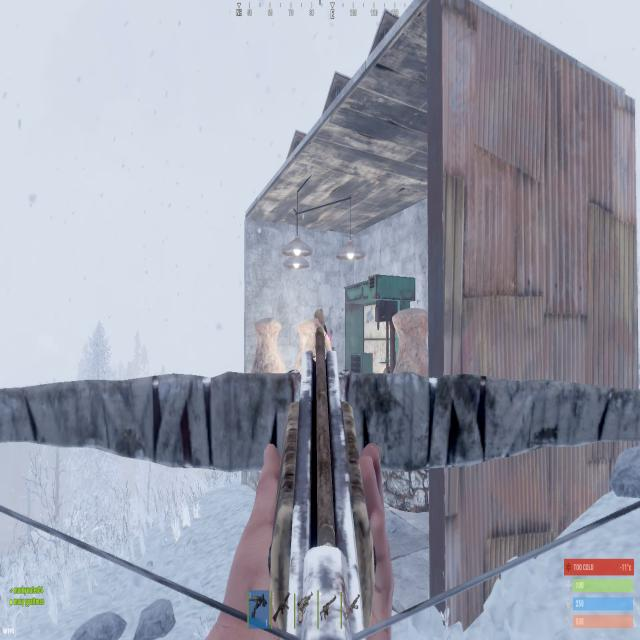Player: (313, 304, 334, 368)
